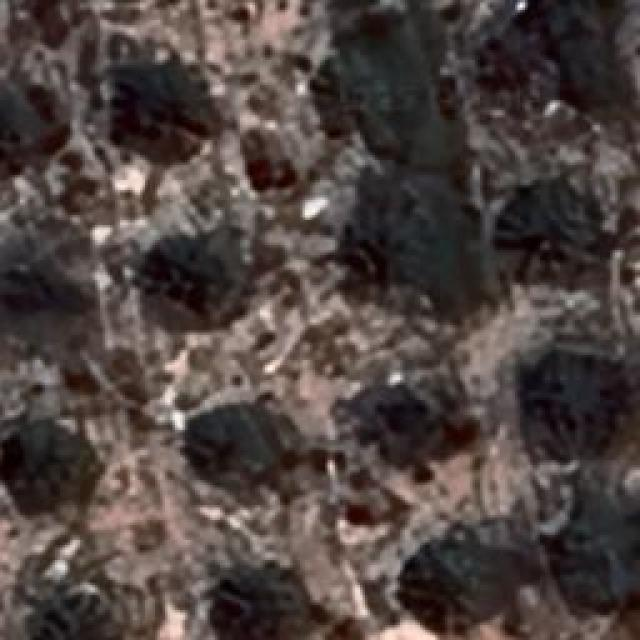PalmTree: (70, 78, 400, 418), (329, 179, 429, 309), (528, 374, 638, 474), (406, 525, 509, 623), (555, 494, 640, 608), (120, 66, 220, 162), (73, 59, 510, 78), (510, 201, 610, 284), (195, 397, 278, 495), (151, 224, 239, 312), (0, 254, 86, 338), (0, 424, 90, 504), (212, 580, 308, 640), (320, 58, 395, 120), (0, 86, 42, 178), (24, 597, 107, 640)
